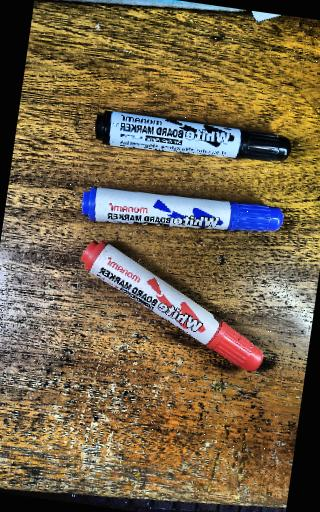marcador azul: (82, 187, 283, 231)
marcador negro: (95, 110, 291, 161)
marcador rojo: (82, 241, 261, 370)
